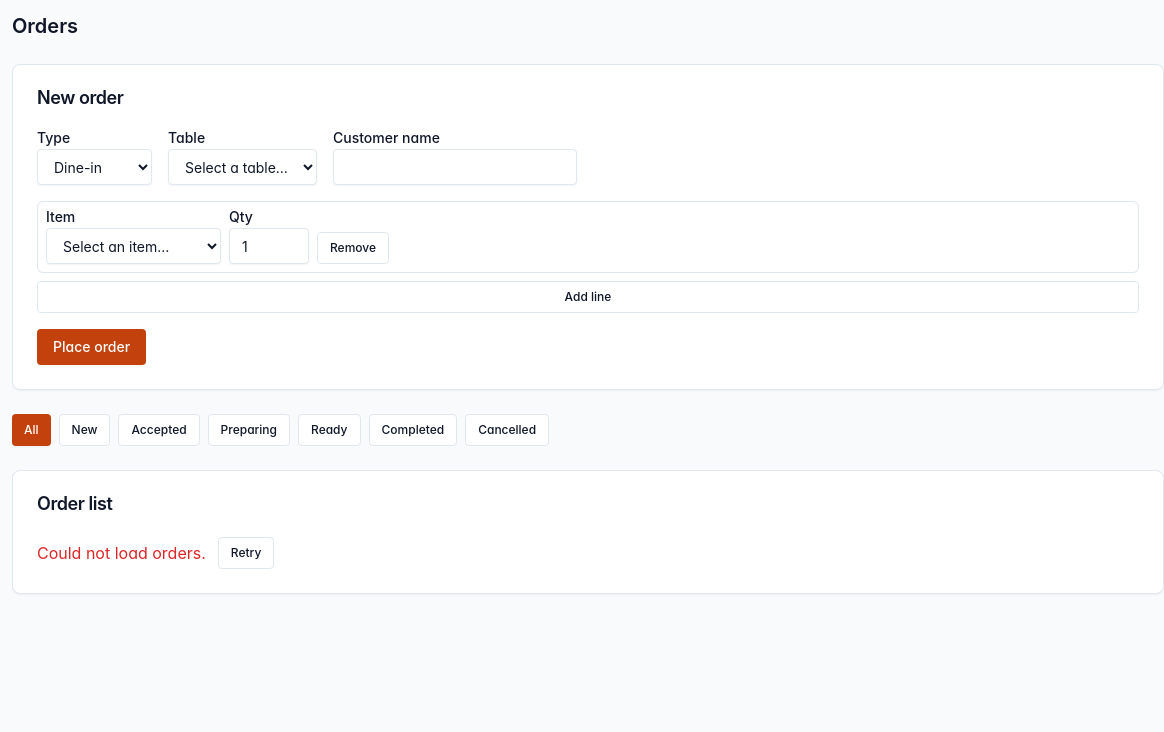
Test case: OrdersPage › shows an error state with a working retry button
The image size is (1164, 732).
Check: the text "Could not load orders." is shown, box [37,541,206,565]
Click the button "Retry" at (246, 553), box [218,537,274,569]
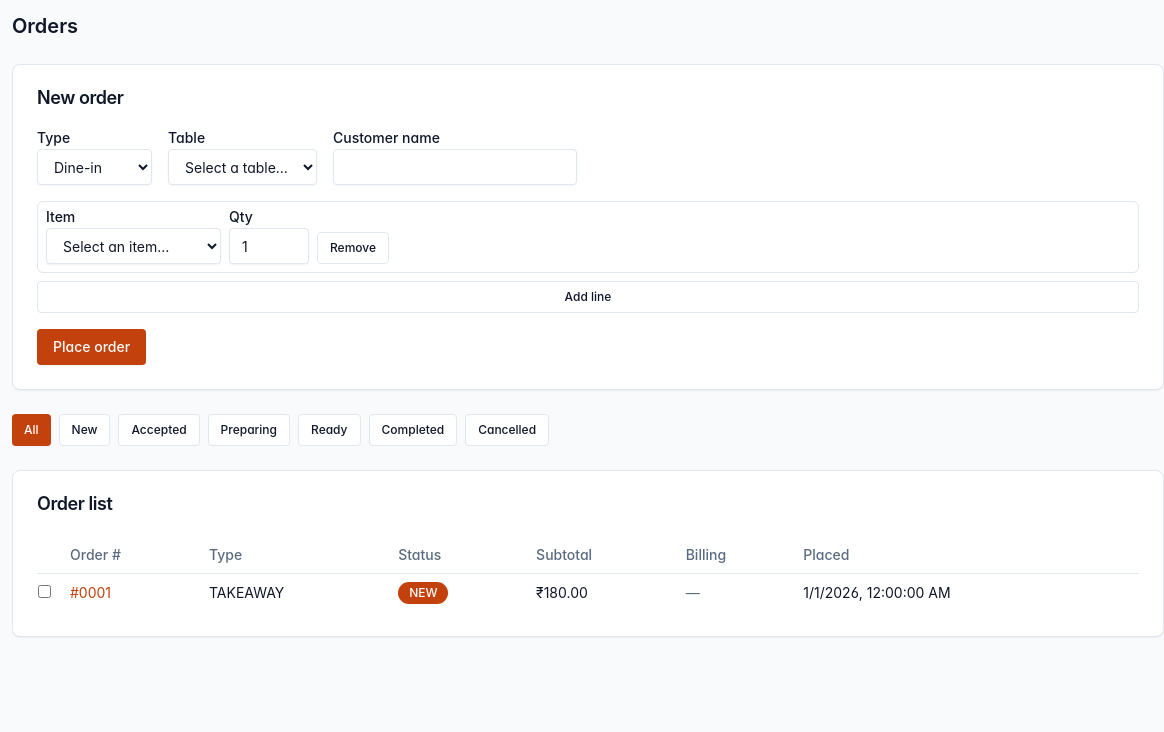
Check: the link "#0001" is shown, box [70,584,111,601]
